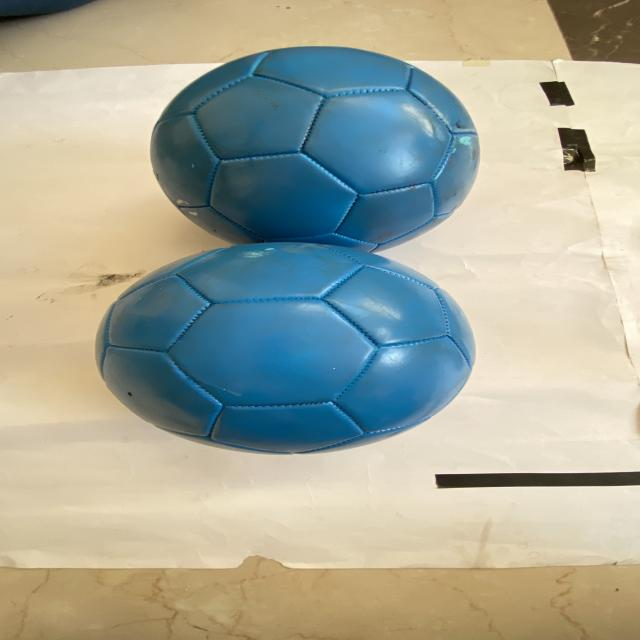blue_ball: (106, 248, 474, 448), (150, 48, 469, 247)
